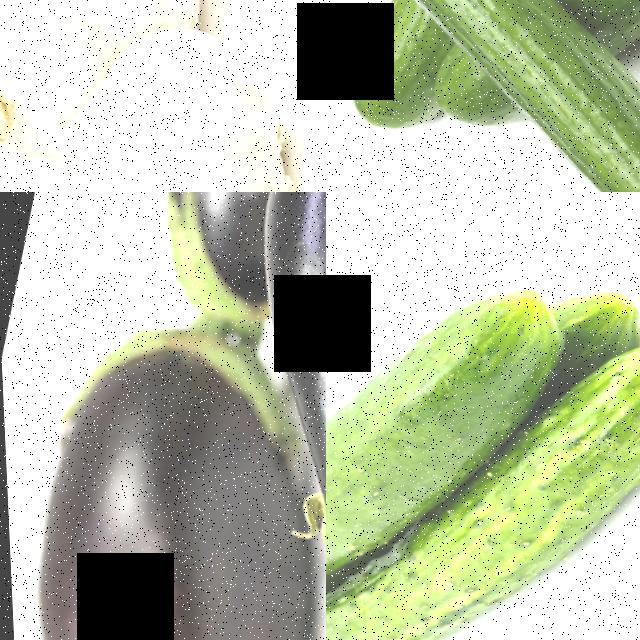cucumber: (326, 249, 564, 505), (478, 314, 640, 634), (496, 53, 640, 192), (326, 0, 453, 147), (326, 542, 497, 640)
eggplant: (0, 300, 326, 640), (165, 192, 326, 640)
garlic: (25, 4, 320, 192), (0, 0, 163, 121)
